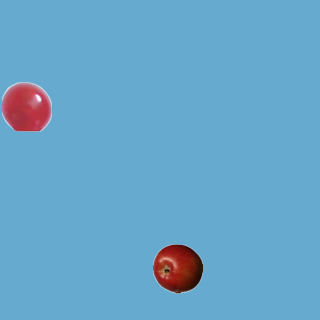Apple Braeburn: (152, 243, 202, 293)
Redcurrant: (1, 81, 51, 131)
